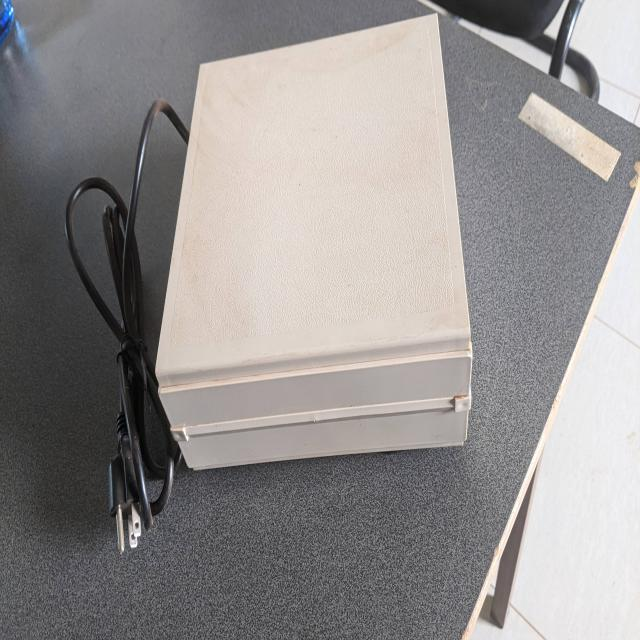Freefall Digital Timer: (147, 21, 480, 483)
